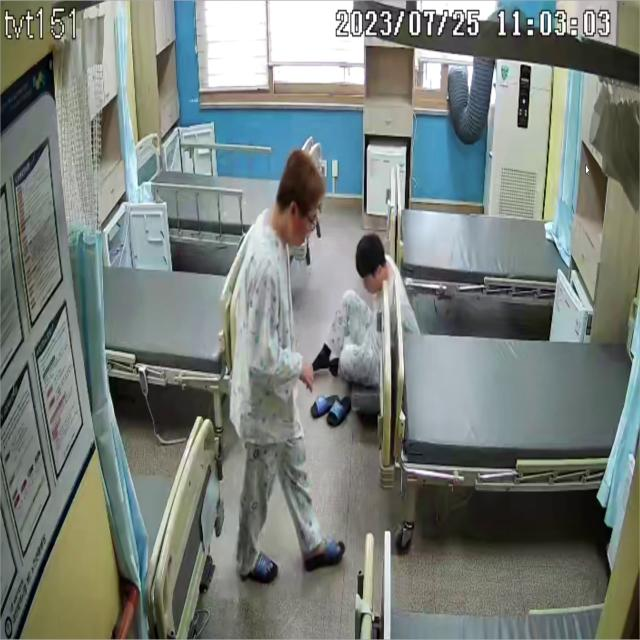bed: (377, 275, 629, 498), (387, 154, 573, 310), (107, 227, 270, 393), (152, 142, 320, 257)
fall: (316, 233, 424, 391)
patient: (228, 144, 344, 583), (315, 233, 424, 387)
